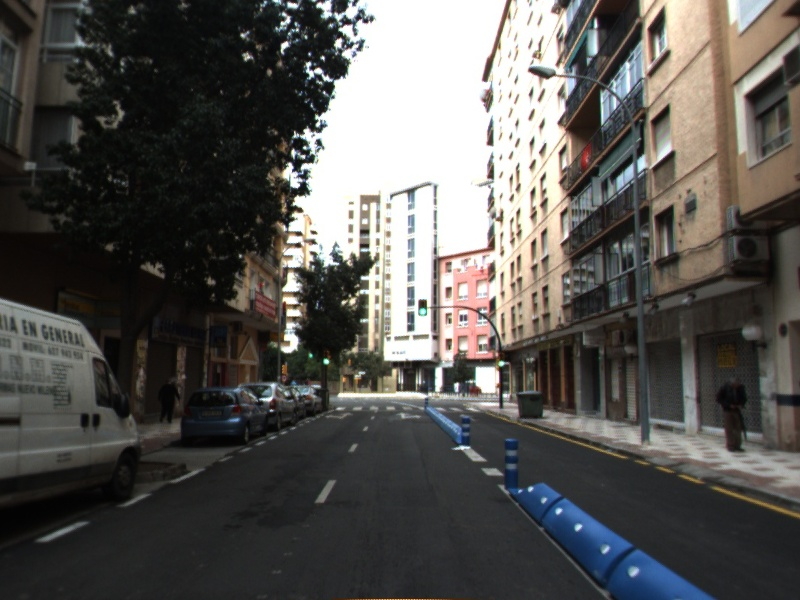STRAIGHT_LEFT: (323, 411, 355, 421)
STRAIGHT_RIGHT: (394, 410, 423, 421)
